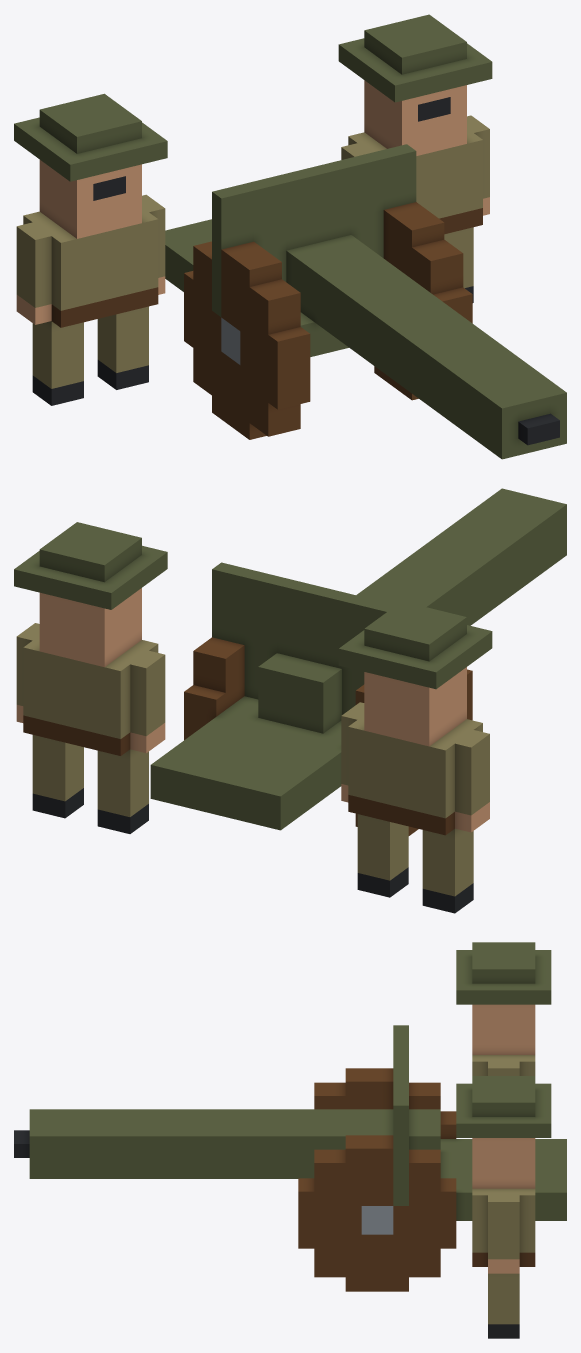
The model's file is u_artillery.glb.
3 views of the same model, one above another, from view 1: azimuth 30°, elevation 25°; view 2: azimuth 150°, elevation 25°; view 3: azimuth 270°, elevation 25° (orthographic). The views are drawn at different scales.
Visible parts, largest first — view 1: u_artillery_body; view 2: u_artillery_body; view 3: u_artillery_body.
Part boxes in pixels (x1,y1,x2,y2): u_artillery_body: [14, 14, 566, 459]; u_artillery_body: [14, 488, 566, 913]; u_artillery_body: [14, 942, 566, 1338].
Bounding box in the file's own units: 1.75 × 1 × 2.19.
1 material, 1 textured.
